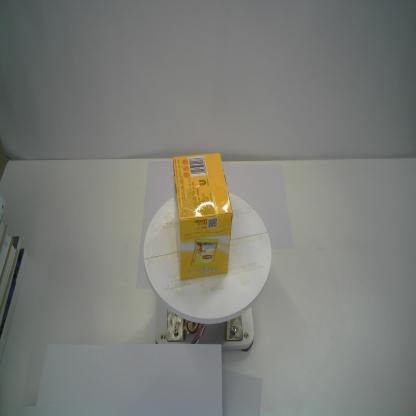Instant Drink: (171, 151, 236, 282)
